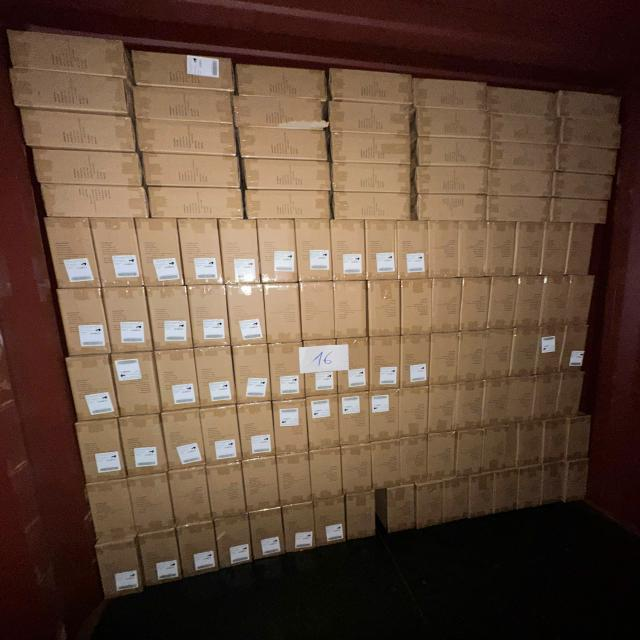Carton: (3, 32, 128, 82), (7, 66, 128, 116), (17, 107, 137, 155), (27, 146, 141, 186), (131, 52, 237, 95), (46, 219, 103, 293), (36, 184, 146, 222), (132, 84, 236, 124), (137, 118, 240, 157), (144, 156, 244, 192), (58, 289, 109, 359), (95, 220, 145, 289), (237, 64, 330, 101), (83, 479, 134, 545), (69, 355, 119, 422), (138, 218, 184, 289), (235, 95, 328, 130), (76, 418, 126, 483), (148, 189, 246, 222), (327, 67, 412, 105), (106, 286, 154, 352), (238, 128, 330, 162), (96, 541, 147, 600), (112, 352, 158, 416), (326, 104, 412, 138), (242, 158, 332, 190), (180, 221, 222, 289), (328, 132, 412, 166), (122, 414, 167, 477), (147, 286, 190, 350), (128, 475, 173, 535), (137, 528, 182, 588), (245, 191, 332, 222), (486, 85, 560, 121), (411, 76, 487, 111), (156, 347, 197, 411), (220, 222, 259, 288), (259, 222, 298, 288), (412, 108, 489, 141), (175, 524, 219, 581), (165, 408, 206, 469), (331, 166, 411, 197), (330, 193, 412, 223), (488, 112, 560, 146), (192, 288, 230, 352), (228, 286, 267, 348), (415, 137, 492, 168), (197, 346, 235, 407), (488, 141, 558, 174), (296, 220, 332, 284), (171, 469, 212, 525), (414, 166, 488, 196), (554, 141, 619, 175), (202, 406, 240, 464), (266, 284, 302, 345), (556, 90, 624, 122), (559, 116, 623, 150), (232, 344, 268, 404), (415, 194, 487, 224), (206, 464, 244, 520), (333, 219, 367, 281), (239, 404, 275, 461), (214, 519, 252, 573), (303, 282, 337, 342), (486, 168, 554, 198), (270, 344, 305, 402), (550, 173, 614, 204), (366, 221, 398, 282), (302, 340, 335, 398), (272, 401, 307, 455), (243, 459, 278, 513), (368, 282, 401, 339), (250, 509, 286, 561), (399, 223, 430, 283), (486, 196, 550, 225), (335, 284, 368, 340), (401, 281, 433, 338), (427, 222, 458, 280), (337, 338, 369, 394), (307, 396, 340, 450), (277, 453, 311, 505), (482, 425, 518, 474), (430, 277, 460, 334), (310, 447, 342, 500), (457, 222, 487, 278), (370, 336, 401, 390), (400, 335, 431, 389), (339, 393, 370, 447), (284, 504, 317, 554), (486, 223, 516, 278), (460, 279, 490, 333), (515, 223, 545, 277), (549, 198, 609, 225), (369, 390, 400, 442), (314, 498, 346, 548), (487, 278, 517, 330), (385, 486, 416, 536), (429, 333, 458, 386), (540, 223, 569, 276), (346, 494, 377, 543), (566, 224, 595, 276), (507, 374, 536, 426), (342, 445, 372, 495), (515, 279, 544, 330), (398, 388, 428, 437), (556, 368, 586, 417), (456, 331, 484, 383), (426, 432, 455, 482), (398, 436, 427, 486), (372, 439, 400, 490), (427, 386, 456, 435), (539, 278, 568, 327), (415, 480, 444, 529), (439, 477, 468, 526), (482, 375, 509, 427), (456, 383, 484, 433), (566, 278, 594, 328), (485, 330, 513, 379), (512, 328, 539, 378), (532, 373, 561, 419), (455, 431, 483, 478), (560, 327, 588, 374), (516, 420, 544, 467), (492, 466, 518, 516), (467, 472, 494, 520), (535, 330, 563, 376), (517, 463, 542, 510), (566, 415, 591, 461), (563, 458, 588, 504), (543, 416, 566, 464), (540, 460, 564, 506)
